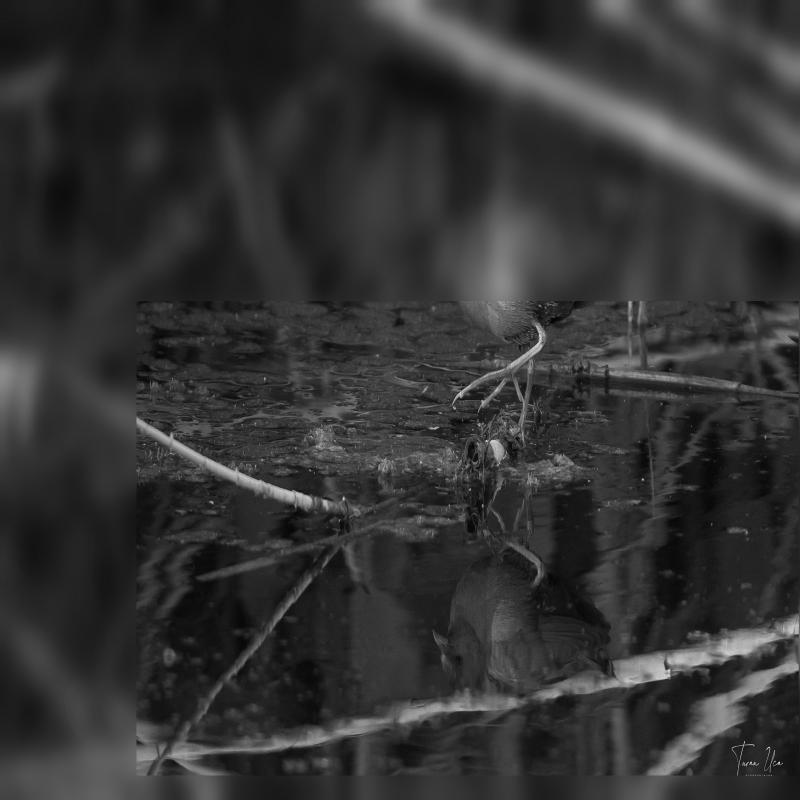little crake: (394, 489, 627, 739)
